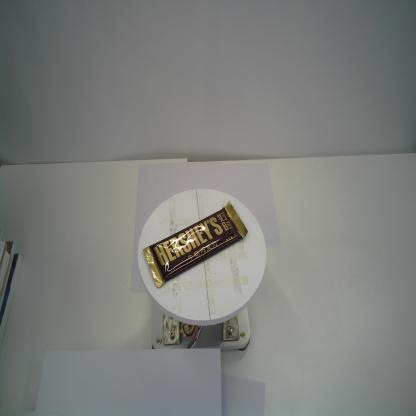Chocolate: (141, 198, 250, 289)
